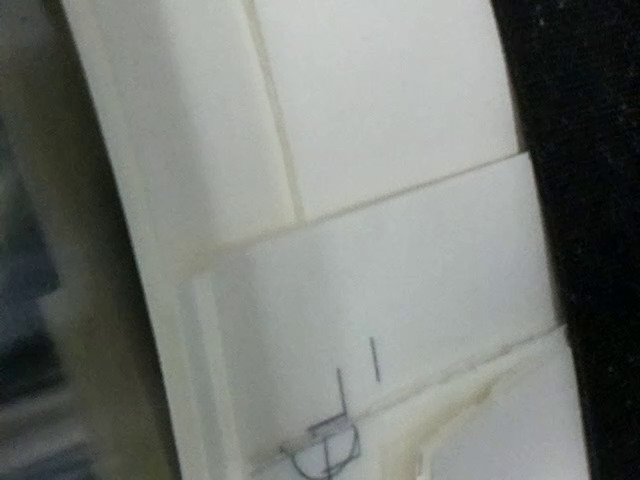misaligned: (251, 368, 366, 480)
